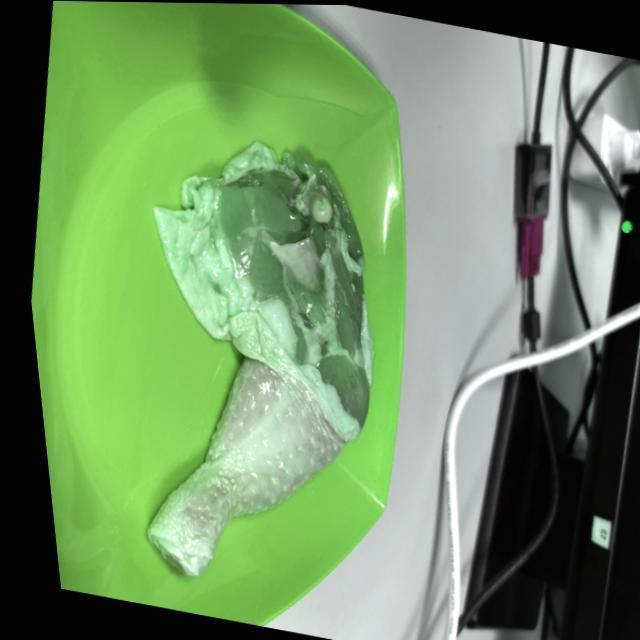quater: (143, 139, 368, 553)
